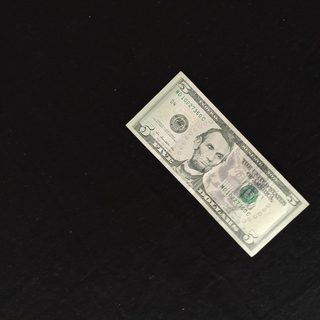5USDFront: (124, 70, 310, 257)
